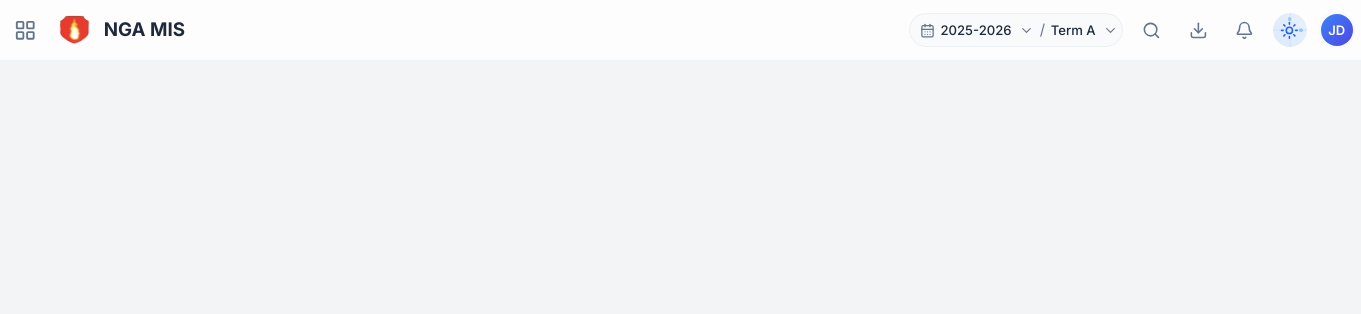
Navbar › reveals the user's name and email inside the dropdown after clicking the account icon
This screenshot has width=1361, height=314.
Click the button with aria-label "account menu" at (1337, 30), box [1318,11,1355,49]
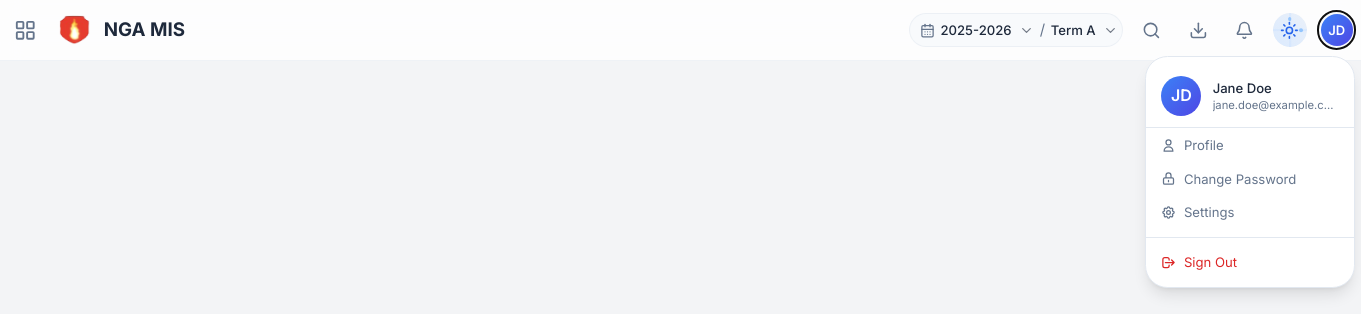
Check: the text "Jane Doe" is shown, box [1213,80,1272,96]
Check: the text "jane.doe@example.com" is shown, box [1213,98,1339,113]
